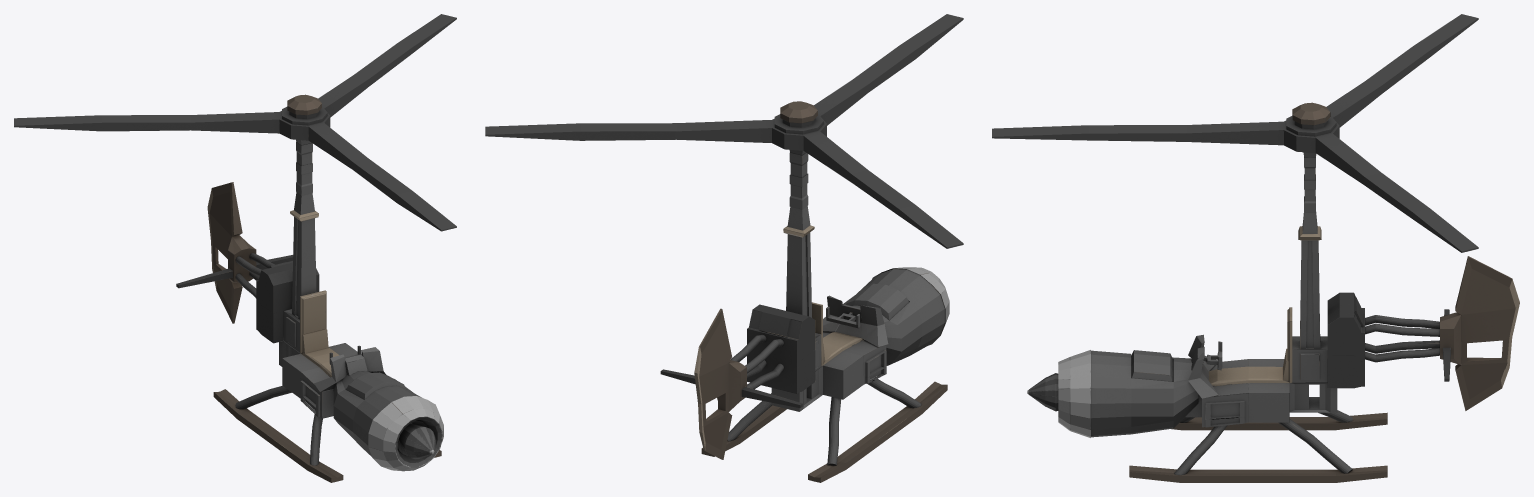
File: helicopter.glb
The picture shows the model from 3 angles, left to right: view 1: azimuth 30°, elevation 25°; view 2: azimuth 150°, elevation 25°; view 3: azimuth 270°, elevation 25°; orthographic projection. The views are drawn at different scales.
Parts seen in each view (by area): view 1: Body, Prop; view 2: Body, Prop; view 3: Body, Prop.
Part boxes in pixels (x1,y1,x2,y2): Body: [176, 139, 443, 482]; Prop: [14, 14, 456, 231]; Body: [660, 150, 949, 482]; Prop: [485, 14, 963, 248]; Body: [1027, 152, 1519, 482]; Prop: [992, 14, 1478, 252].
Bounding box in the file's own units: 5.76 × 3.92 × 5.41.
Materials: 12 (12 with a texture image).
